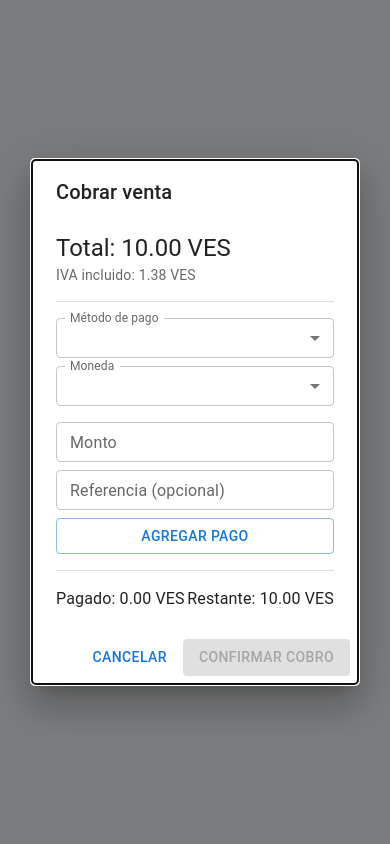
it: PosPagoDialog › permite quitar un pago agregado y recalcula el restante
Select "Efectivo" in the dropdown with test id "pos-pago-metodo" at (195, 338), box [56,318,334,358]
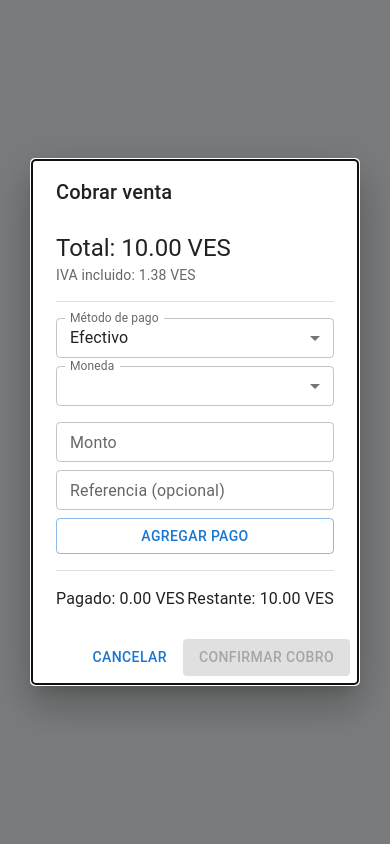
Select "VES" in the dropdown with test id "pos-pago-moneda" at (195, 386), box [56,366,334,406]
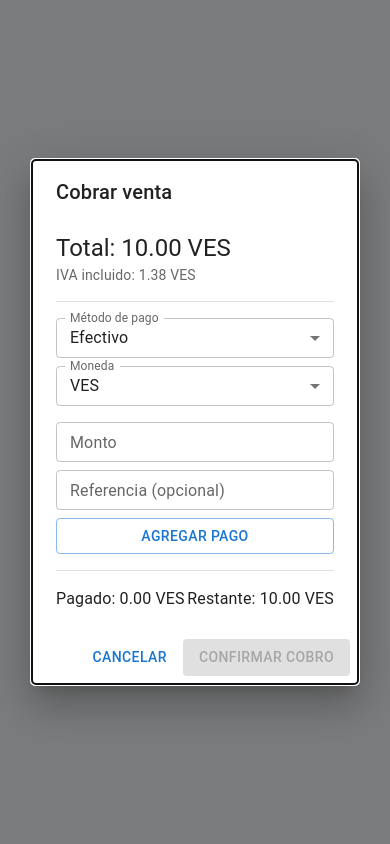
Type "6" into the field with test id "pos-pago-monto" at (195, 442), box [56,422,334,462]
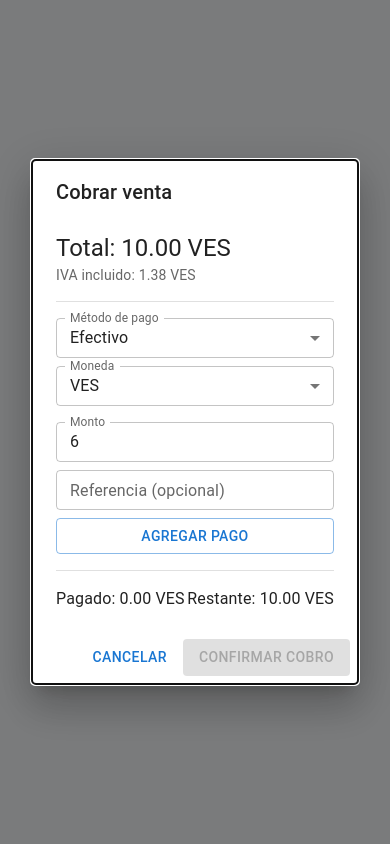
Click the button "Agregar pago" at (195, 536), box [56,518,334,554]
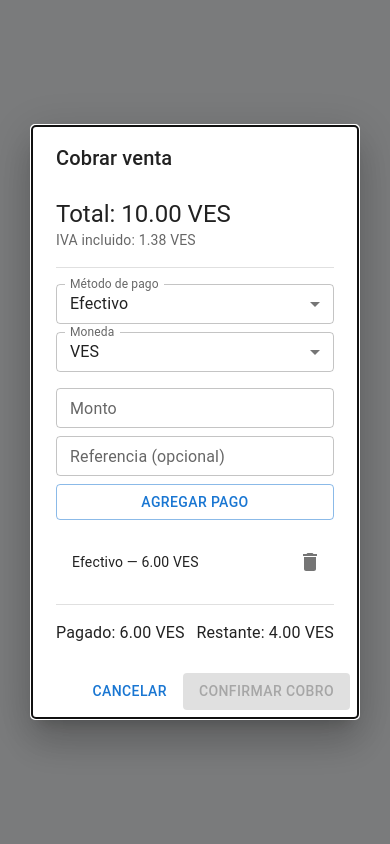
Now the text with test id "pos-restante" shows "4.00", box [269,623,301,642]
Click the button named "Quitar pago Efectivo" at (310, 562), box [290,542,330,582]
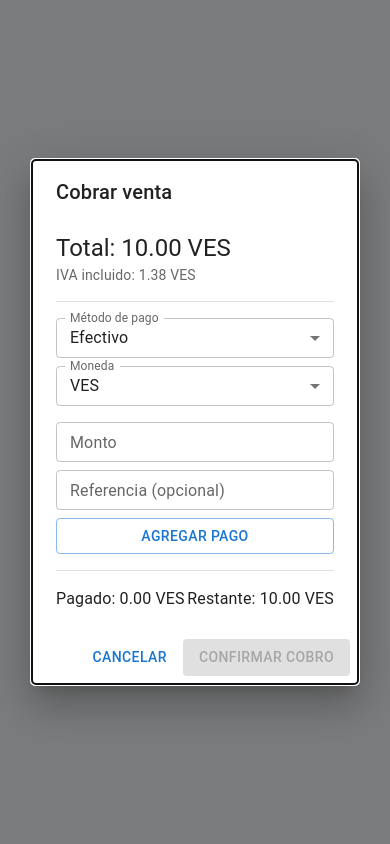
Now the text with test id "pos-restante" shows "10.00", box [260,589,301,608]
Now the list with test id "pos-pagos-lista" is gone
